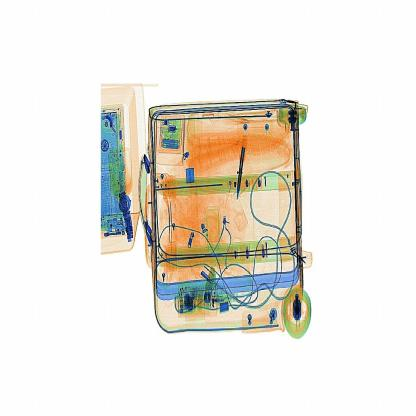gun: (225, 121, 251, 206)
